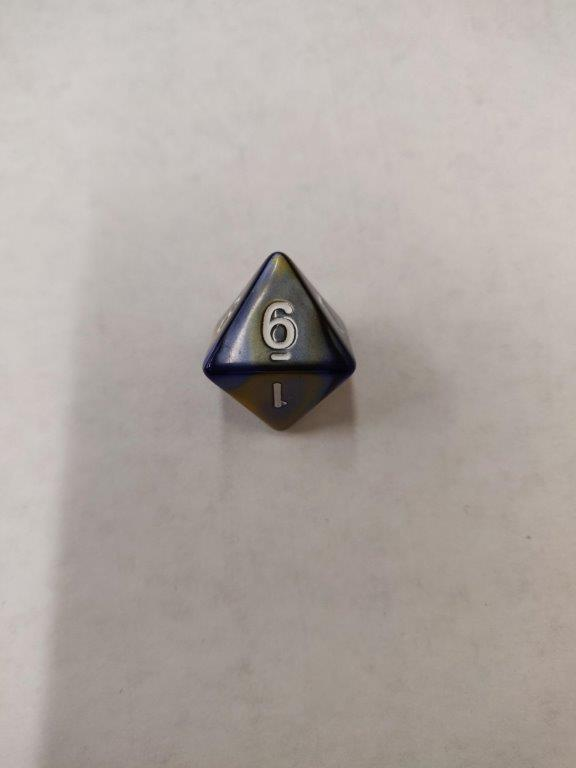d8-6: (193, 248, 360, 437)
